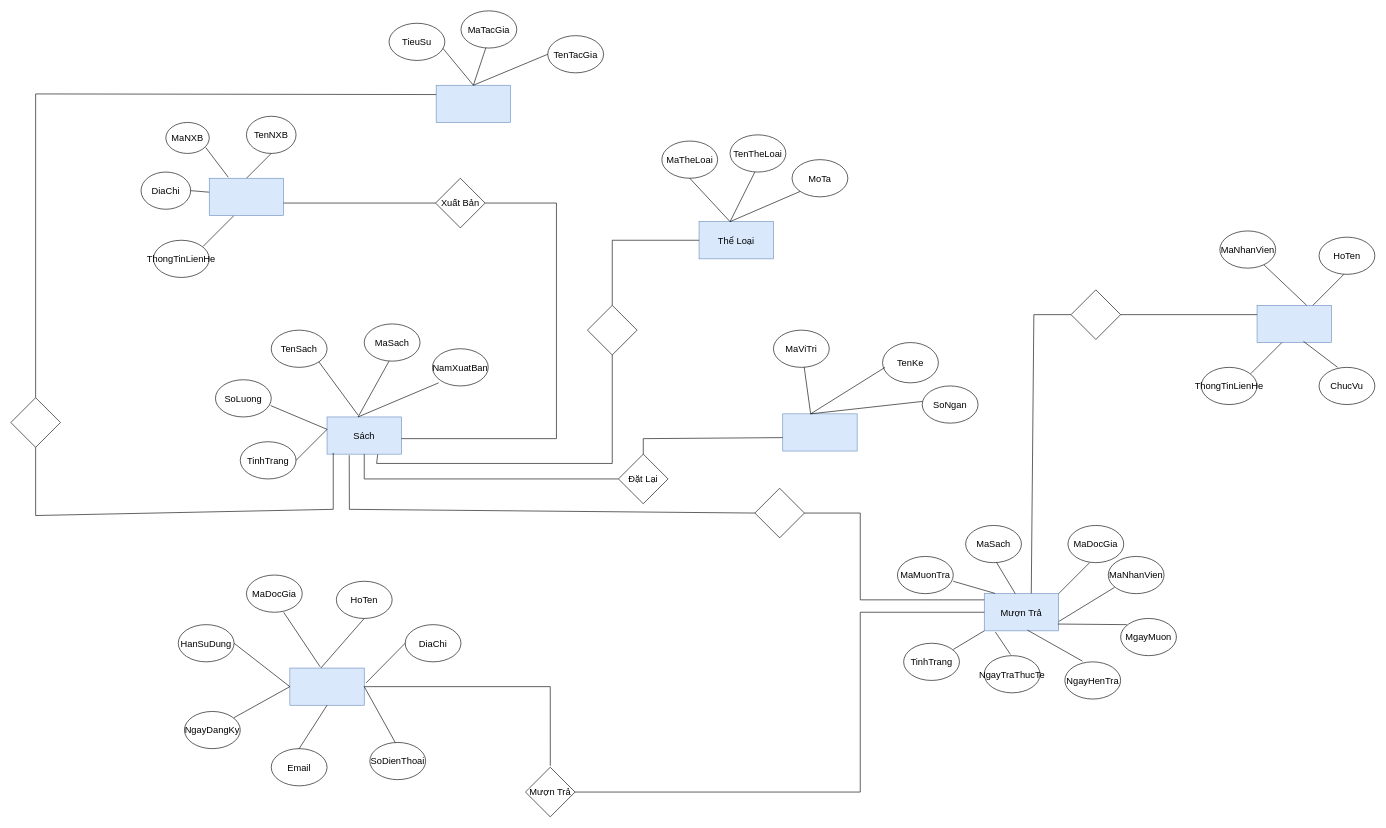
The diagram is 1386 pixels wide and 828 high, and some of its shapes have lost their labels. Each missing label, with the box of its shape:
Nhà Xuất Bản: (209, 178, 284, 215)
Nhân Viên: (1256, 305, 1331, 343)
Phân loại: (587, 305, 637, 355)
Quản lý: (1070, 289, 1121, 339)
Sáng Tác: (10, 397, 60, 447)
Tác Giả: (436, 85, 511, 122)
Vị Trí: (782, 413, 857, 451)
Được Mượn Trả: (754, 488, 804, 538)
Độc Giả: (289, 667, 364, 705)
